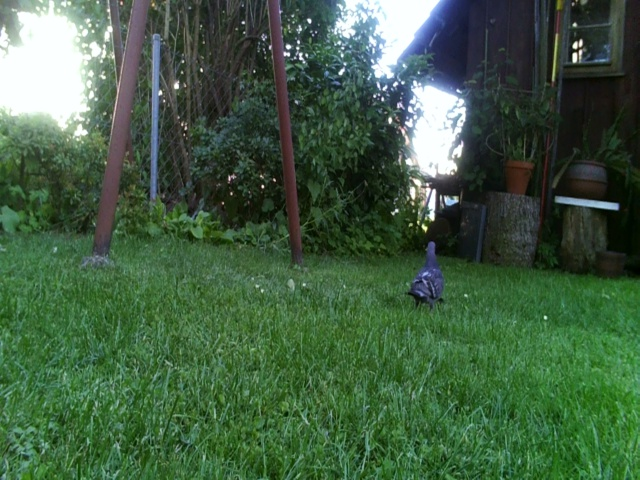Pigeon: (398, 230, 451, 314)
